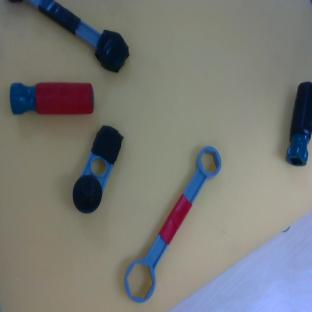part_1_bad: (66, 122, 126, 217)
part_2_good: (10, 83, 93, 114)
part_3_good: (116, 139, 228, 307)
